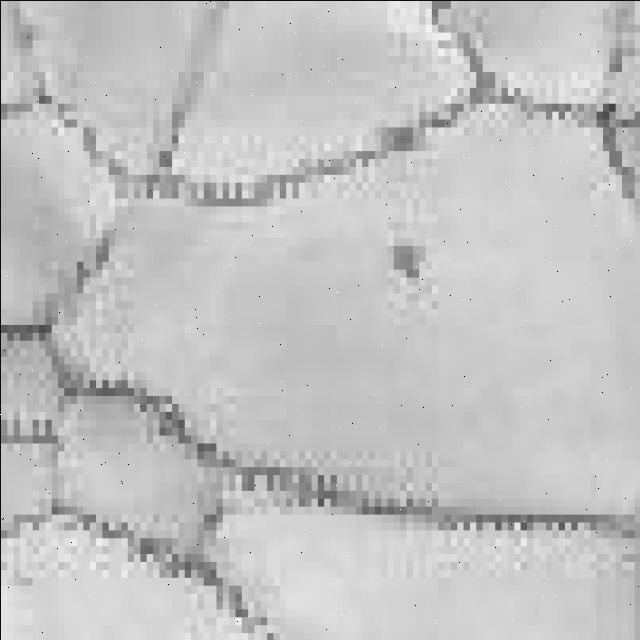good_void: (384, 232, 426, 286)
